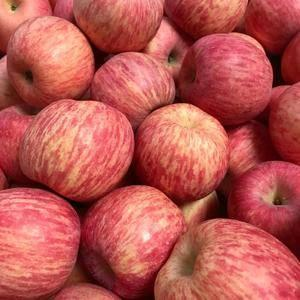apple: (76, 184, 187, 295), (155, 218, 300, 298), (19, 99, 133, 199), (136, 102, 234, 209), (173, 31, 273, 125), (1, 184, 79, 299), (8, 16, 97, 107), (222, 161, 300, 243), (91, 51, 176, 119), (74, 1, 161, 53), (140, 19, 194, 77), (1, 1, 54, 56)
